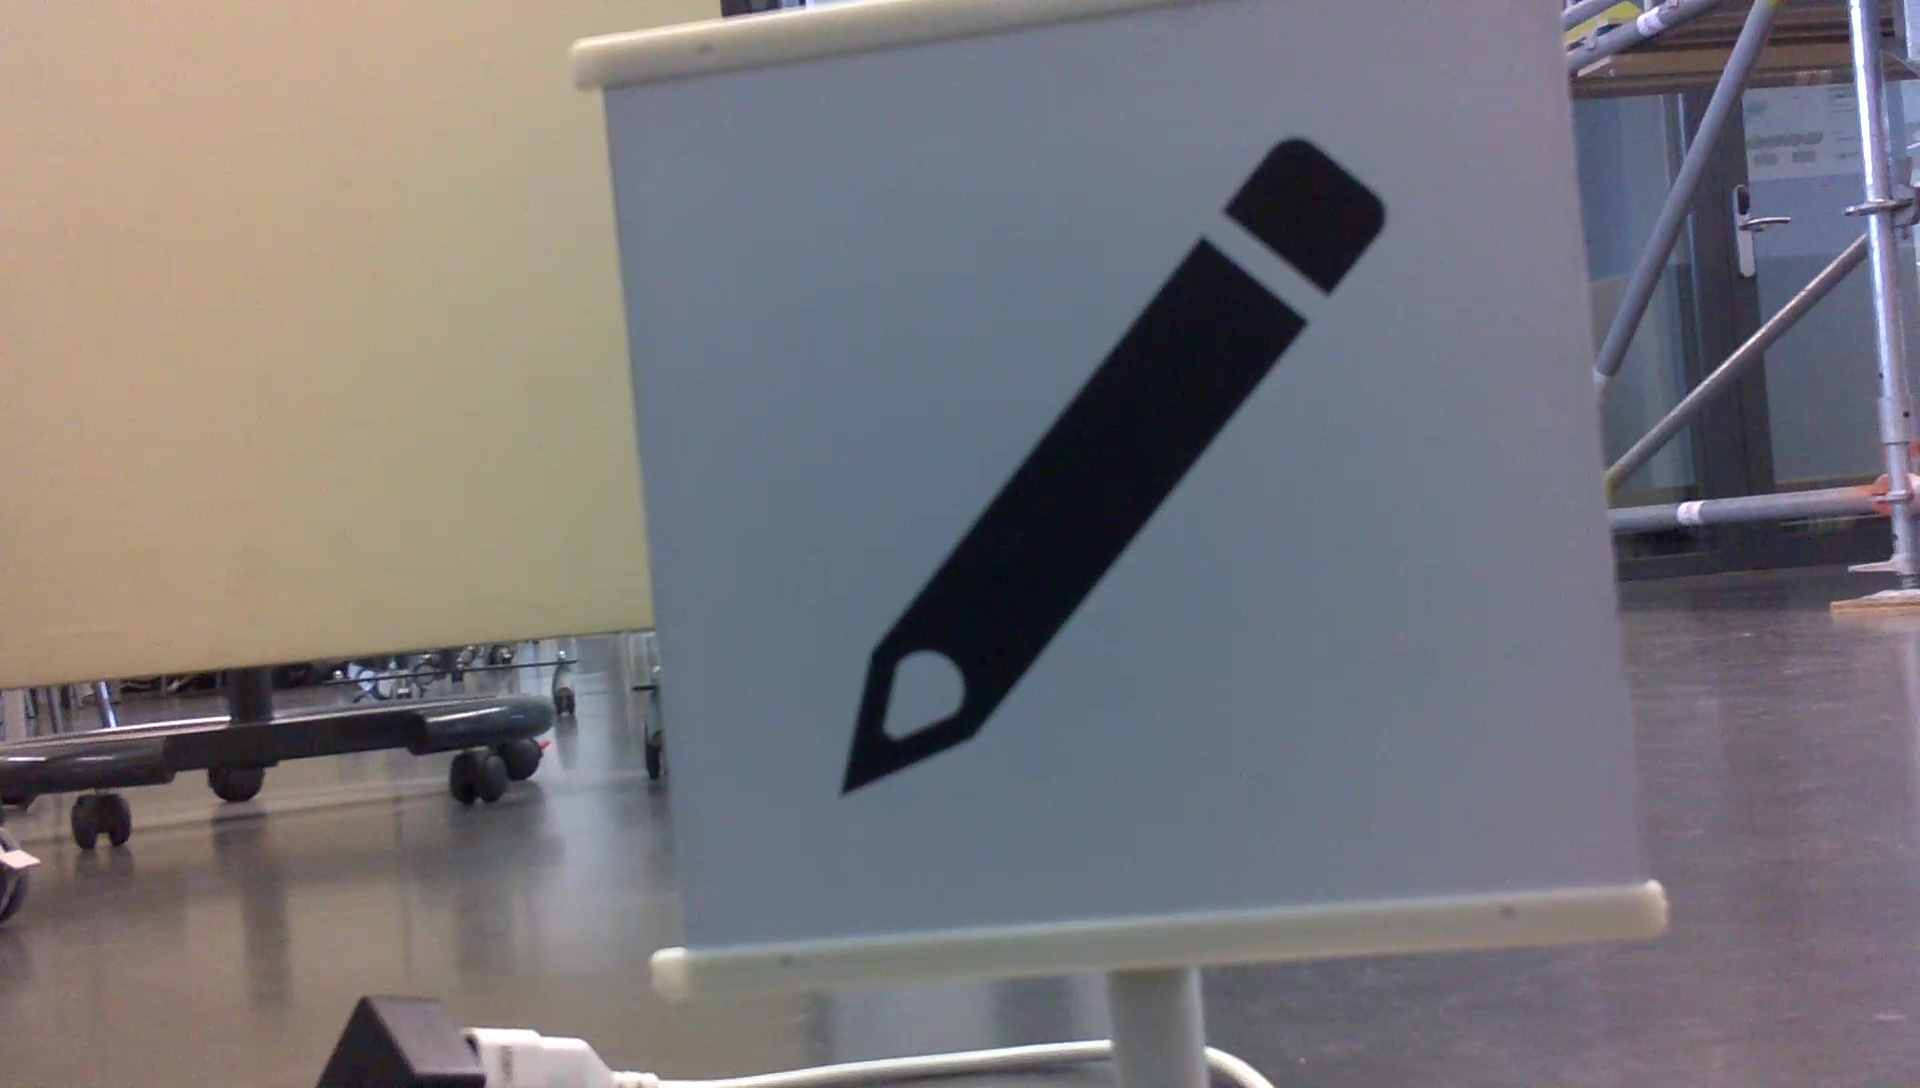pencil: (818, 116, 1404, 810)
